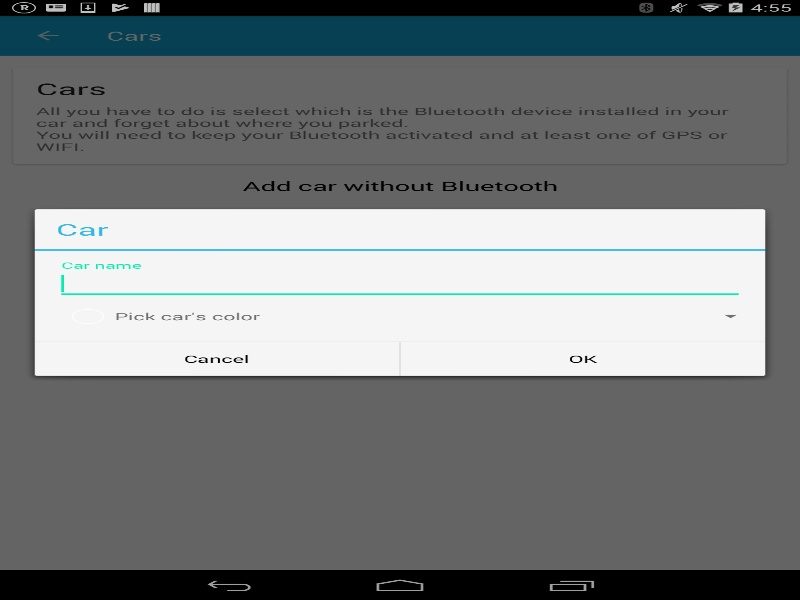Button: (34, 342, 399, 375), (400, 342, 765, 375)
Input: (56, 268, 744, 299)
